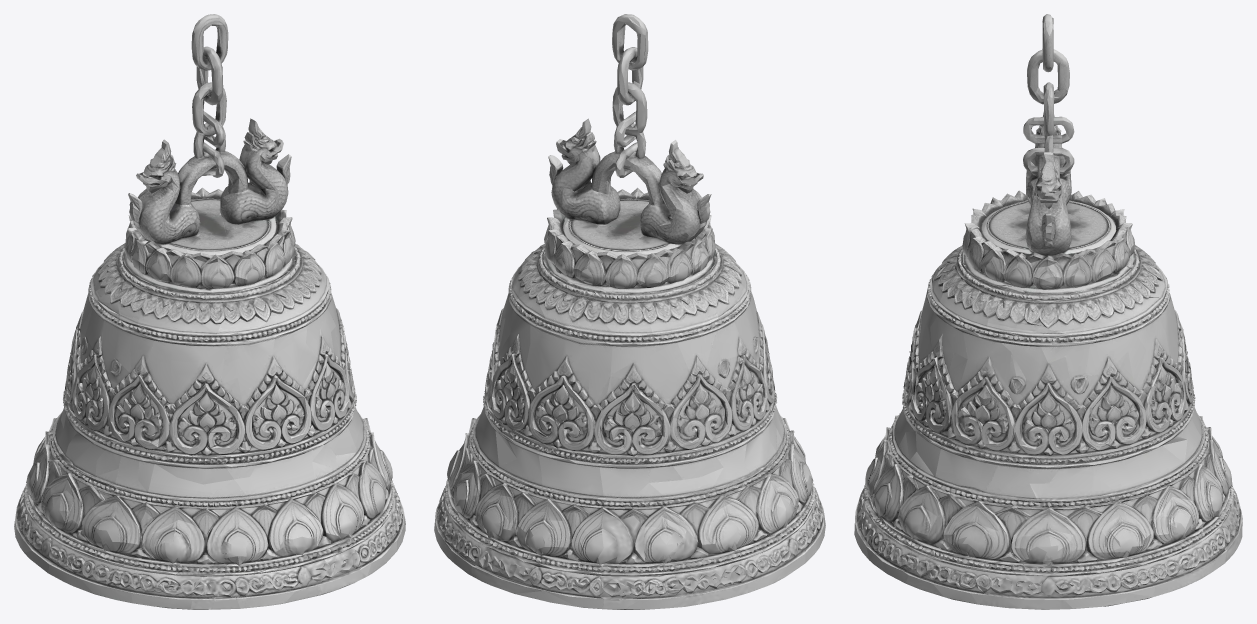
The model's file is bell.glb.
3 renders of one model, left to right at view 1: azimuth 30°, elevation 25°; view 2: azimuth 150°, elevation 25°; view 3: azimuth 270°, elevation 25°, orthographic.
Parts seen in each view (by area): view 1: Mesh_0; view 2: Mesh_0; view 3: Mesh_0.
Part boxes in pixels (x1=…): Mesh_0: x1=14, y1=14, x2=405, y2=609; Mesh_0: x1=434, y1=14, x2=825, y2=609; Mesh_0: x1=854, y1=14, x2=1242, y2=609.
Bounding box in the file's own units: 1.31 × 1.9 × 1.31.
Materials: 1 (1 with a texture image).
